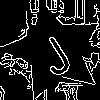J: (29, 26, 77, 79)
